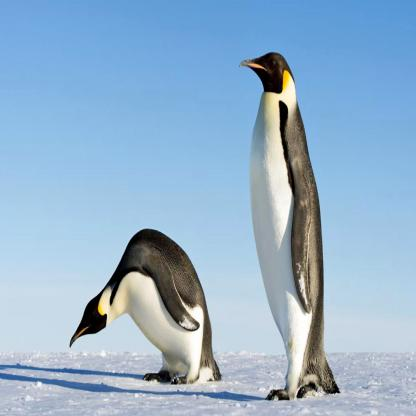Penguin: (231, 44, 356, 400), (66, 209, 224, 388)
